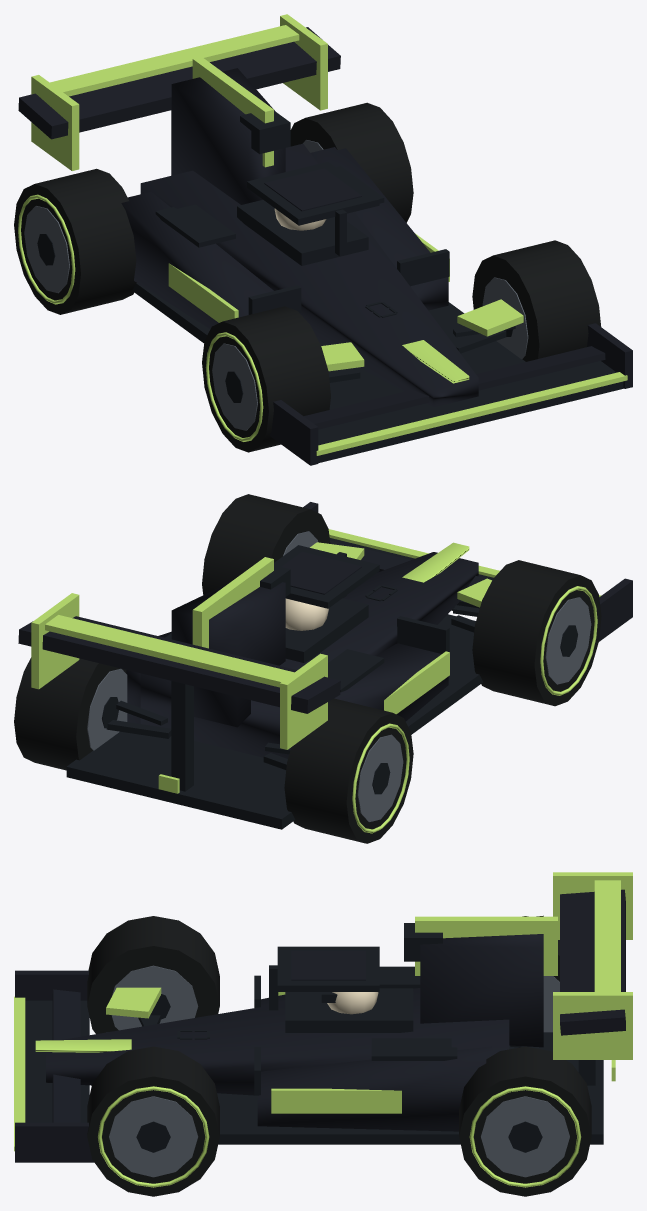
Rendered from baxter-00.glb.
3 views of the same model, one above another, from view 1: azimuth 30°, elevation 25°; view 2: azimuth 150°, elevation 25°; view 3: azimuth 270°, elevation 25° (orthographic).
Parts seen in each view (by area): view 1: formula-0, wheel (×4); view 2: formula-0, wheel (×4); view 3: formula-0, wheel (×4).
Boxes of the visible parts, box(x1,y1,x2,y2) form: formula-0: box(18, 14, 632, 465); wheel (×4): box(14, 102, 601, 452); formula-0: box(18, 502, 632, 829); wheel (×4): box(14, 494, 601, 843); formula-0: box(14, 872, 632, 1162); wheel (×4): box(87, 916, 591, 1196).
Size of the model in its own units: 3.37 by 1.9 by 5.41.
